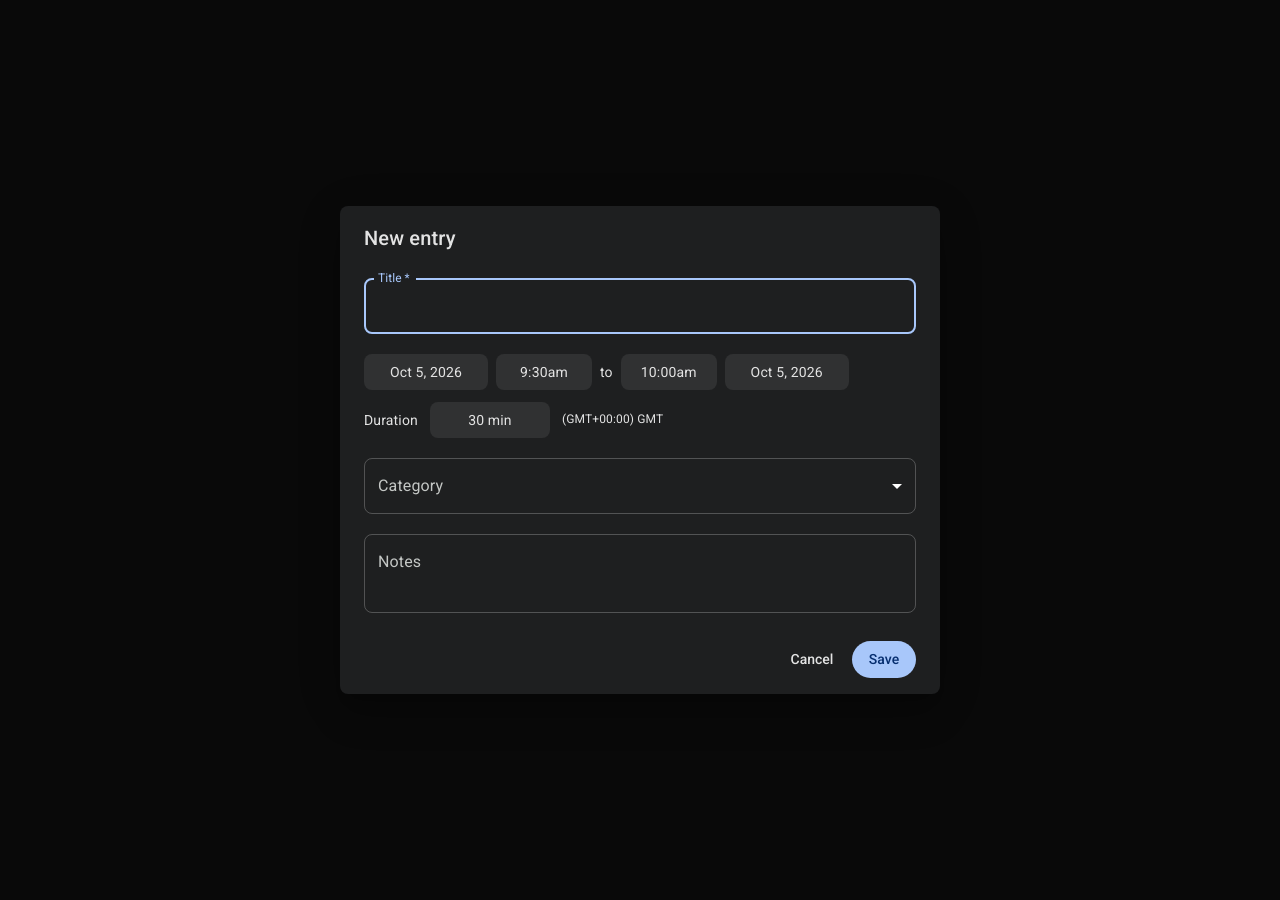
Scenario: EntryDialog › keeps the duration when the start time moves (DT-9)
Replace the text in the dropdown named "Start time" with "9:40am": x=544, y=372 left=496, top=354, right=592, bottom=390
Then press Enter
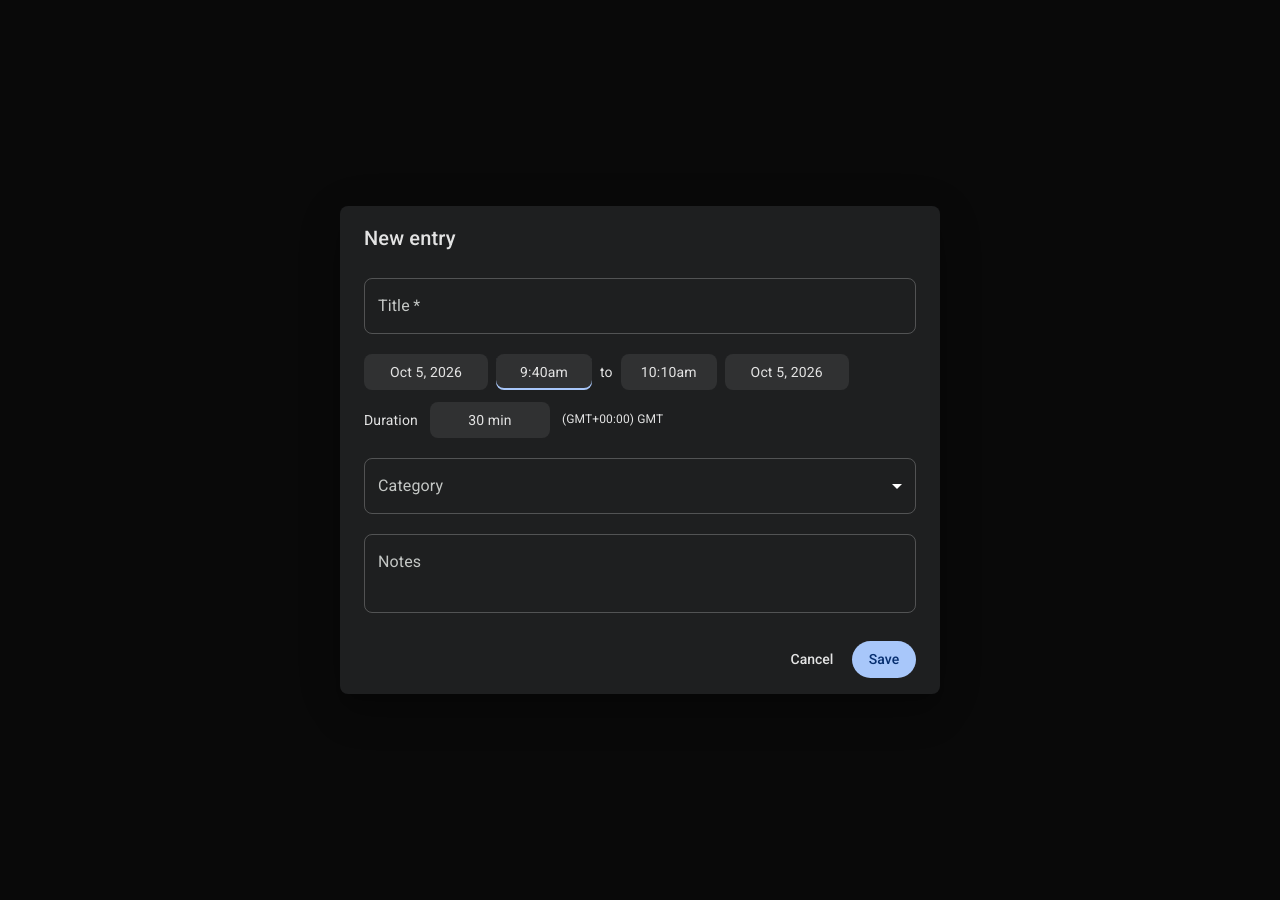
Now the dropdown named "End time" holds "10:10am", box left=621, top=354, right=717, bottom=390
